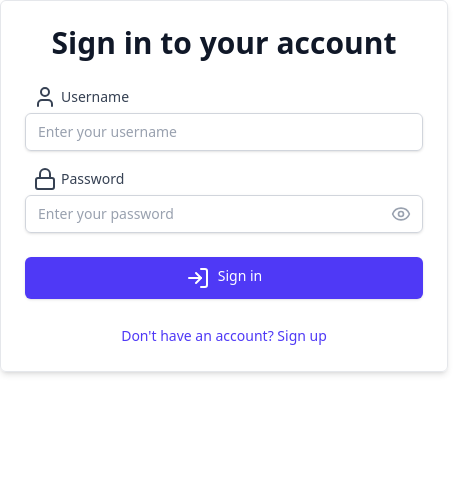
Test case: LoginForm › API Integration › handles network errors
Type "testuser" into the field labelled "Username" at {"x": 224, "y": 132}, box [25, 113, 423, 151]
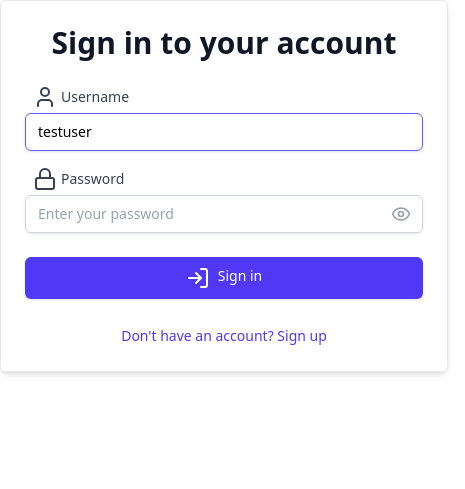
Type "password123" into the password field labelled "Password" at {"x": 224, "y": 214}, box [25, 195, 423, 233]
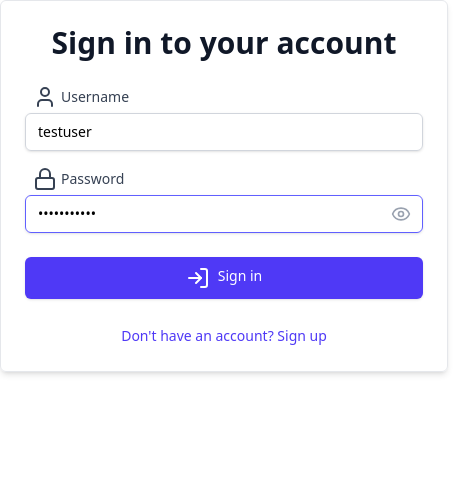
Click the button "Sign in" at {"x": 224, "y": 278}, box [25, 257, 423, 299]
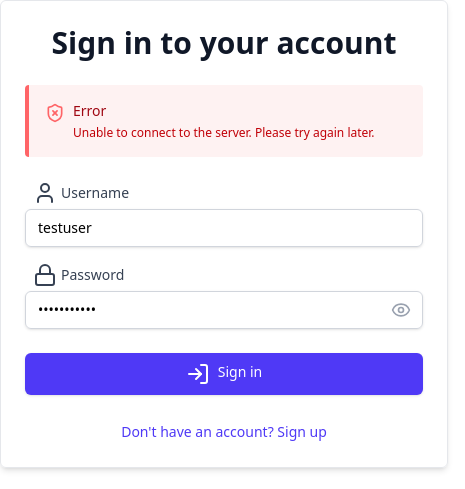
Expected: the text "Unable to connect to the server. Please try again later." is shown, [73, 125, 375, 141]
